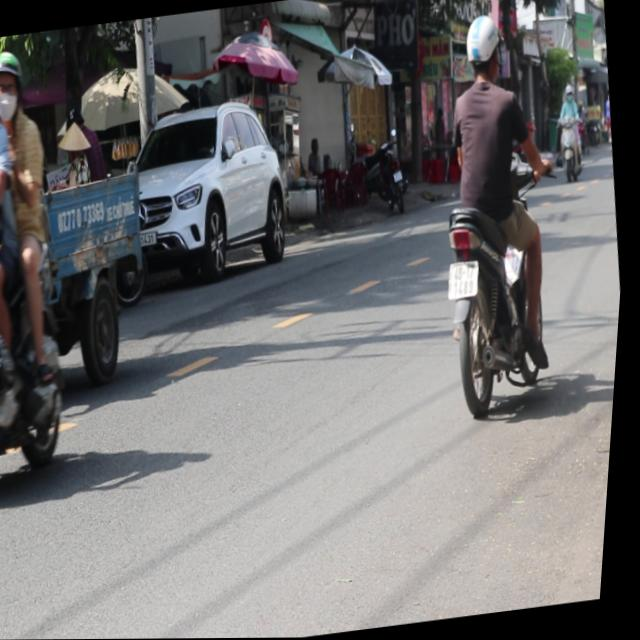helmet: (458, 11, 508, 87), (0, 46, 31, 122)
licenseplate: (407, 4, 588, 425), (0, 31, 107, 502)
nohelmet: (448, 260, 485, 300)
